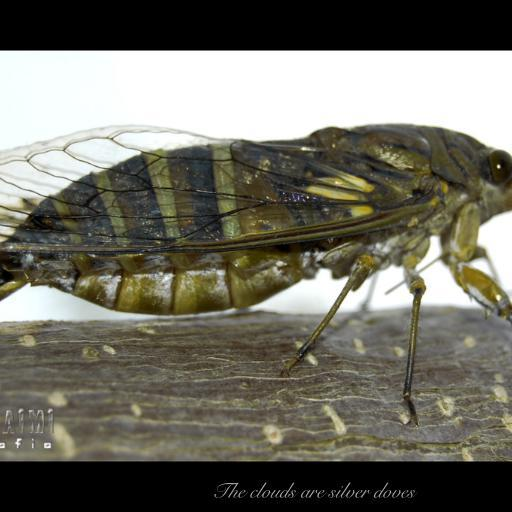Snell Roundhand: (211, 482, 415, 498)
